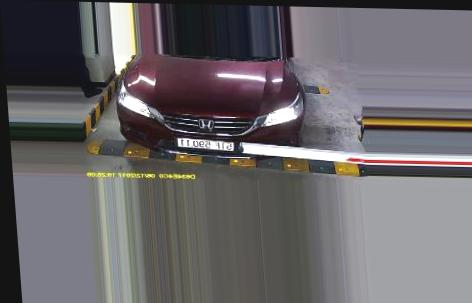License_Plate: (174, 137, 236, 153)
